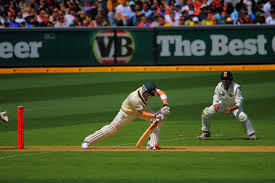bottom left: (134, 142, 139, 148)
top left: (151, 117, 159, 124)
